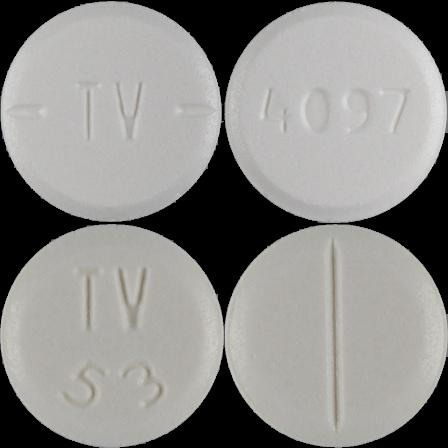76237-118: (0, 0, 224, 224)
